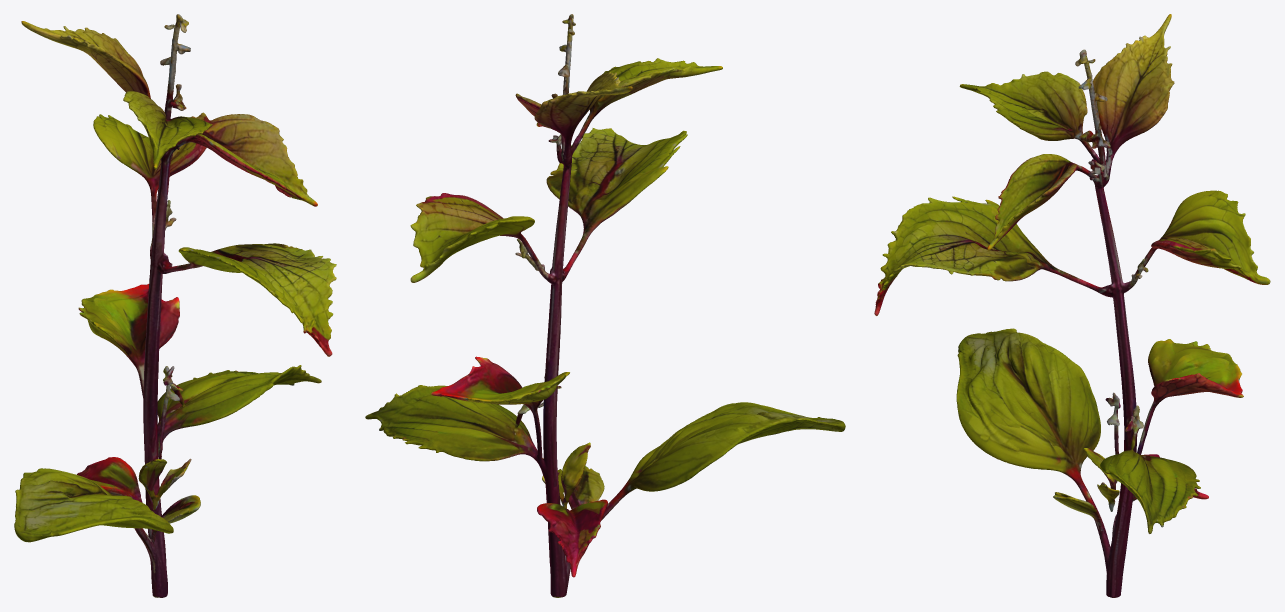
File: purple+stem+plant+3d+model.fbx
3 views of the same model, side by side, from view 1: azimuth 30°, elevation 25°; view 2: azimuth 150°, elevation 25°; view 3: azimuth 270°, elevation 25° (orthographic). The views are drawn at different scales.
Visible parts, largest first — view 1: tripo_node_5e270ead; view 2: tripo_node_5e270ead; view 3: tripo_node_5e270ead.
Boxes of the visible parts, x1,y1,x2,y2 form: tripo_node_5e270ead: (14, 14, 336, 597); tripo_node_5e270ead: (365, 14, 845, 597); tripo_node_5e270ead: (874, 14, 1270, 597).
Size of the model in its own units: 0.7105 by 1 by 0.6567.
1 material, 1 textured.
